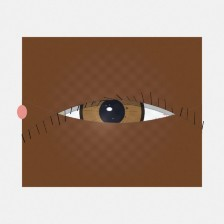pinguecula_lesion: (31, 97, 77, 133)
